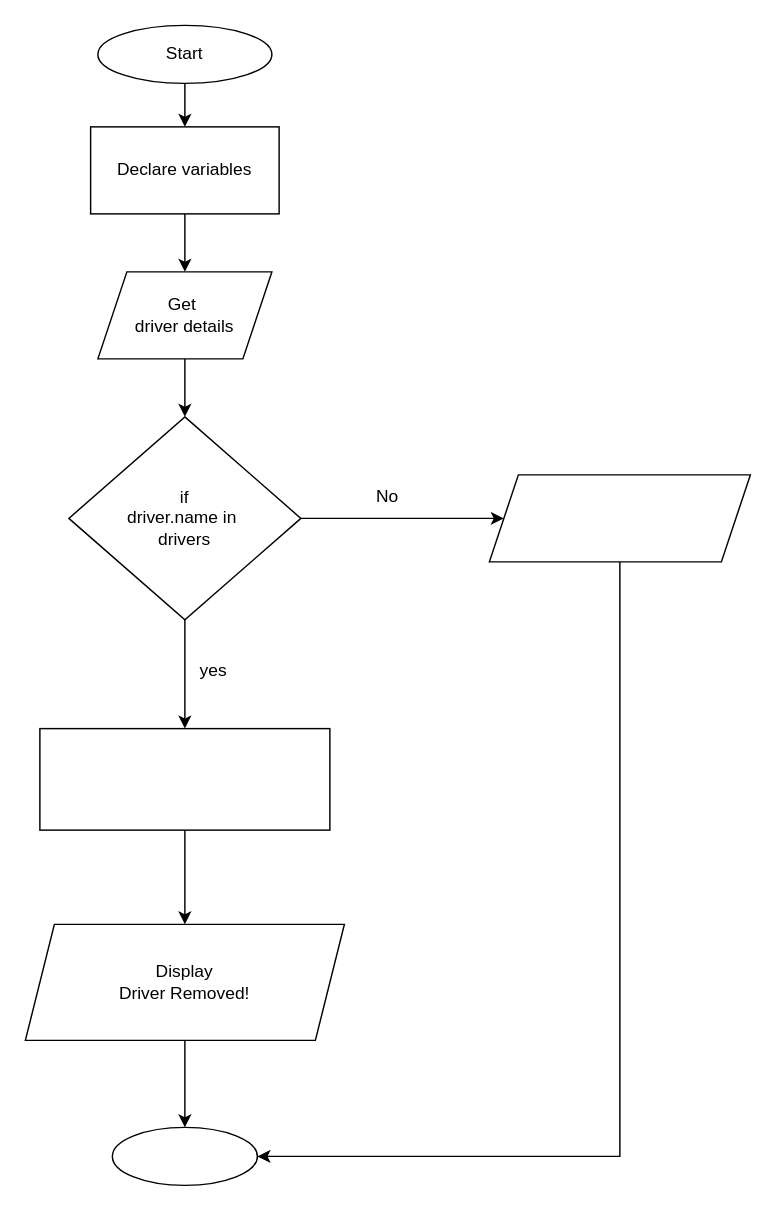
Some shapes in this 776 by 1211 pixel diagram are drawn without their labels. Each missing label, with the centre of its shape:
Display Driver Not Found: the point at 619,517
drivers.remove() where name == driver.name: the point at 184,778
Stop: the point at 184,1155
